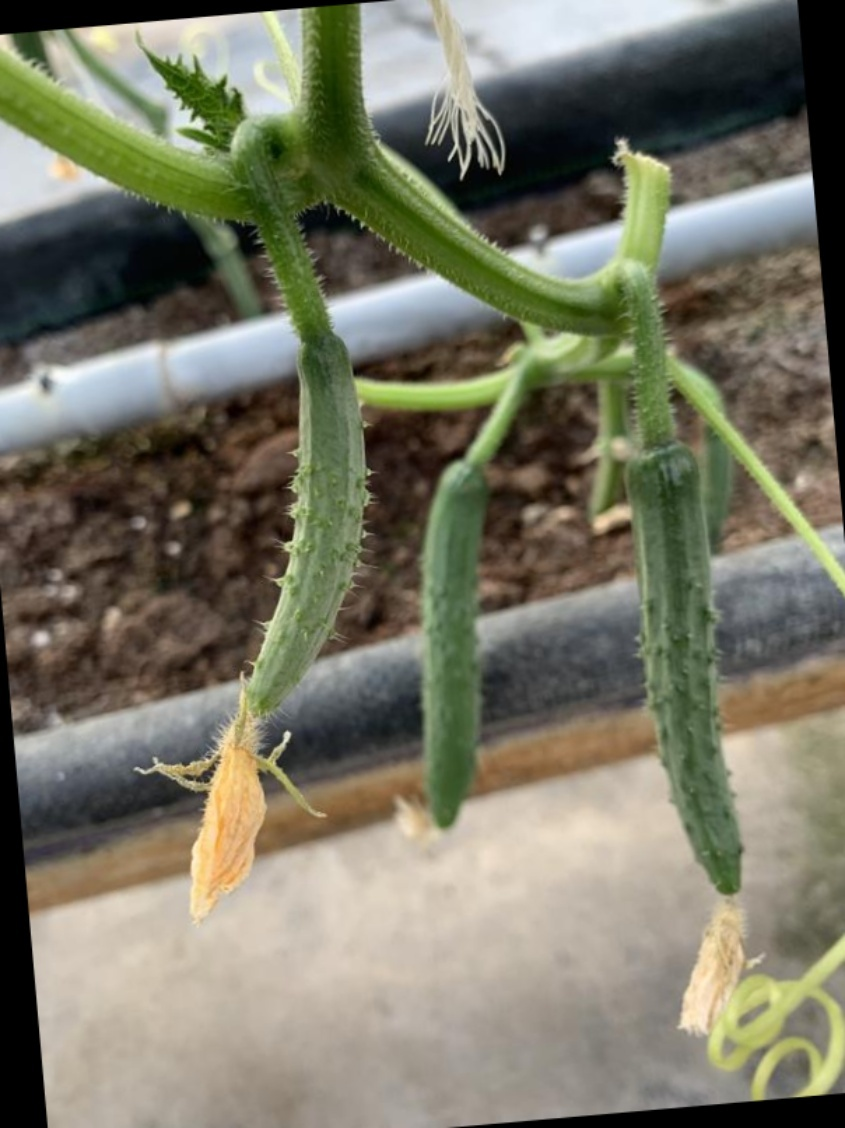bear: (140, 313, 414, 903)
growth: (406, 455, 498, 840)
